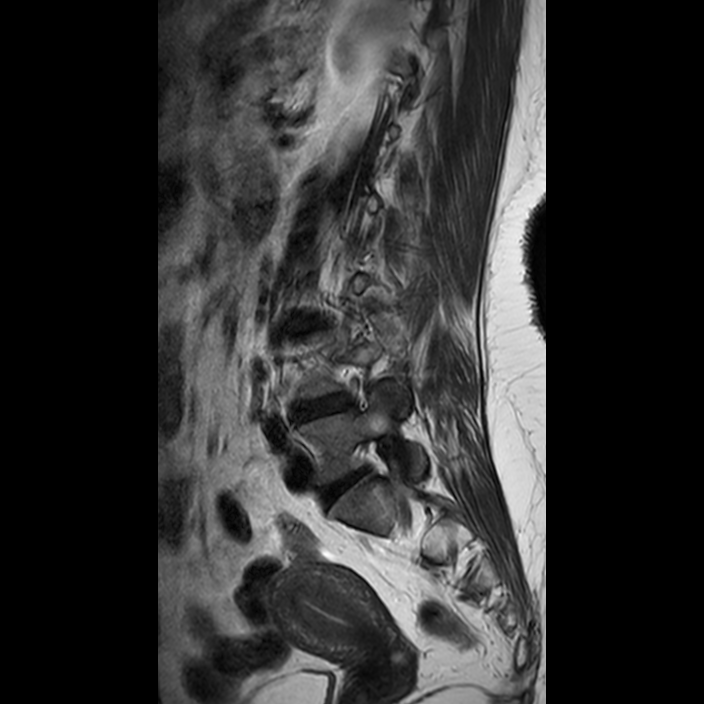LFS0: (344, 426, 397, 492)
